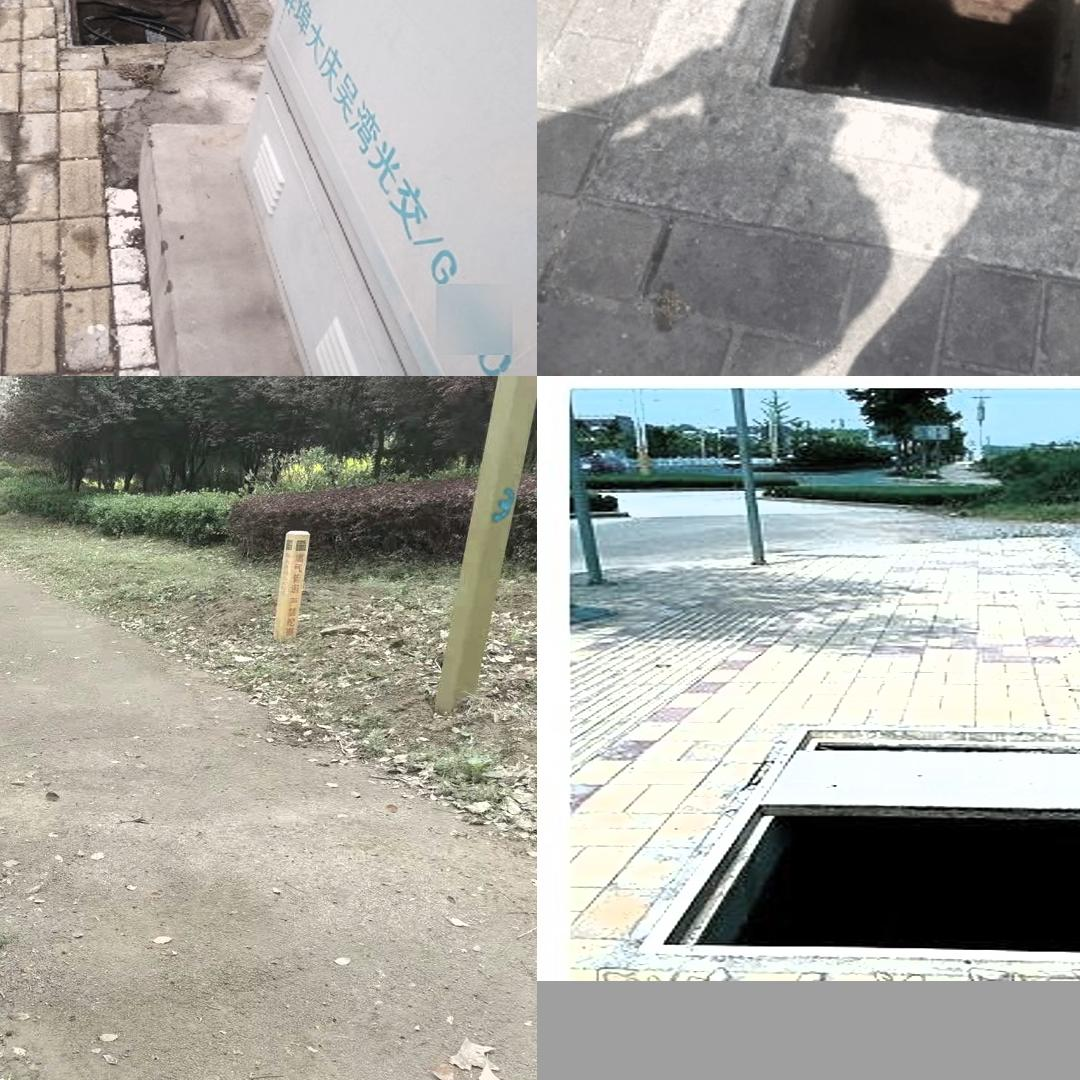lose: (596, 716, 1080, 979), (756, 0, 1080, 146), (56, 0, 248, 46)
